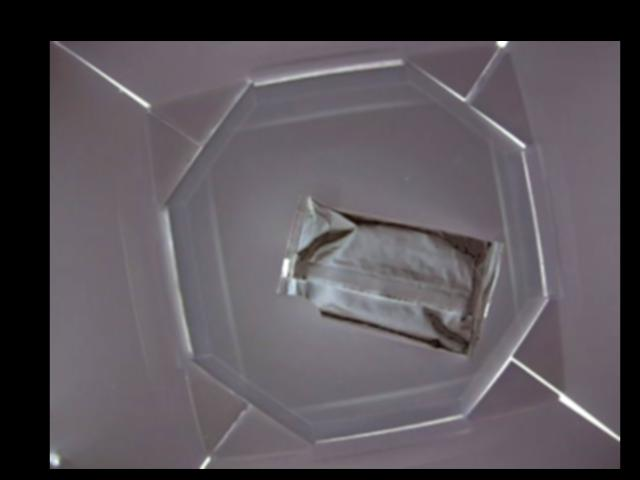Medicine: (274, 194, 500, 358)
